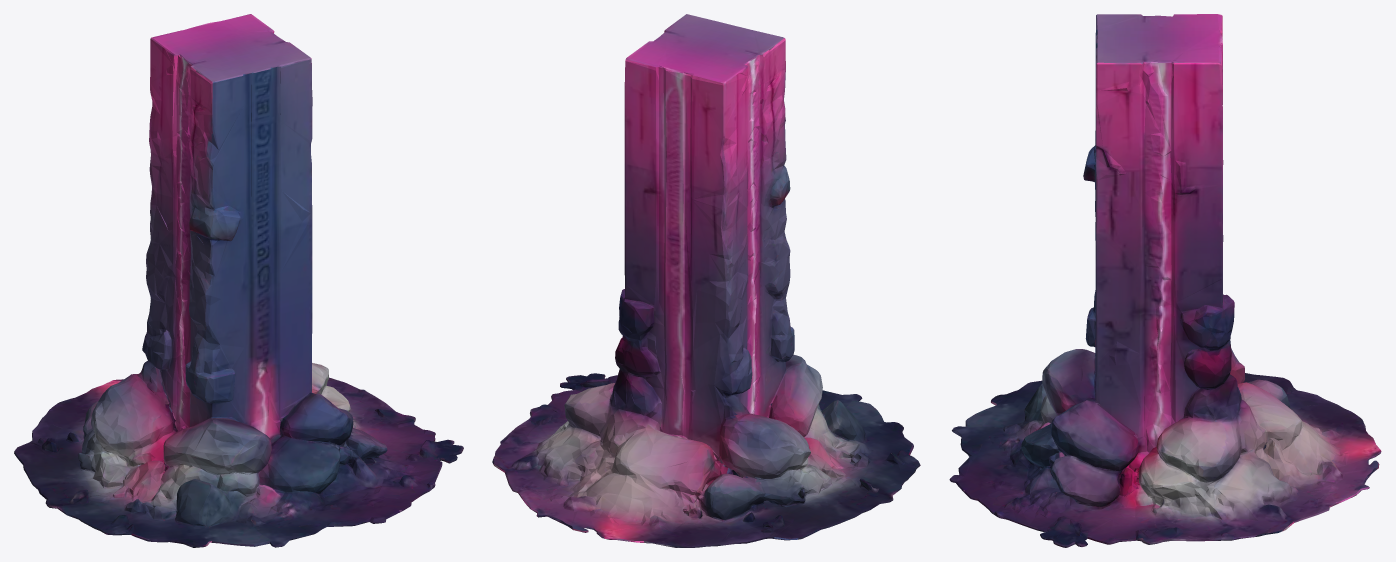
Rendered from solitude-pillar-11-generated-2026-04-19T23-54-22-571Z.low.glb.
The picture shows the model from 3 angles, left to right: view 1: azimuth 30°, elevation 25°; view 2: azimuth 150°, elevation 25°; view 3: azimuth 270°, elevation 25°; orthographic projection. The views are drawn at different scales.
Visible parts, largest first — view 1: temp_mesh.ply; view 2: temp_mesh.ply; view 3: temp_mesh.ply.
Boxes of the visible parts, x1,y1,x2,y2 form: temp_mesh.ply: (14, 14, 463, 547); temp_mesh.ply: (492, 14, 920, 547); temp_mesh.ply: (949, 14, 1381, 547).
Size of the model in its own units: 1.86 by 1.97 by 1.84.
1 material, 1 textured.
